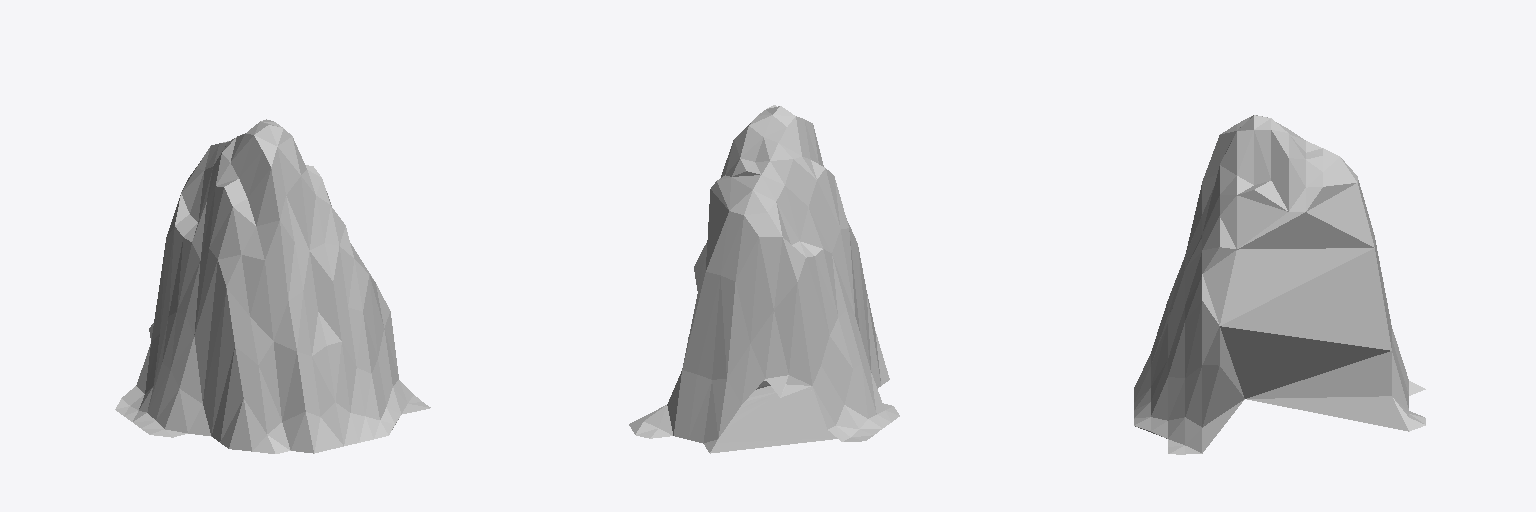
The model's file is tree_40.obj.
The picture shows the model from 3 angles: view 1: azimuth 30°, elevation 25°; view 2: azimuth 150°, elevation 25°; view 3: azimuth 270°, elevation 25°; orthographic projection.
Visible parts, largest first — view 1: tree_40_minus_dtm; view 2: tree_40_minus_dtm; view 3: tree_40_minus_dtm.
Boxes of the visible parts, <box> form: tree_40_minus_dtm: <box>115,119,430,453</box>; tree_40_minus_dtm: <box>629,105,899,453</box>; tree_40_minus_dtm: <box>1134,115,1425,454</box>.
Bounding box in the file's own units: 16 × 18.04 × 17.